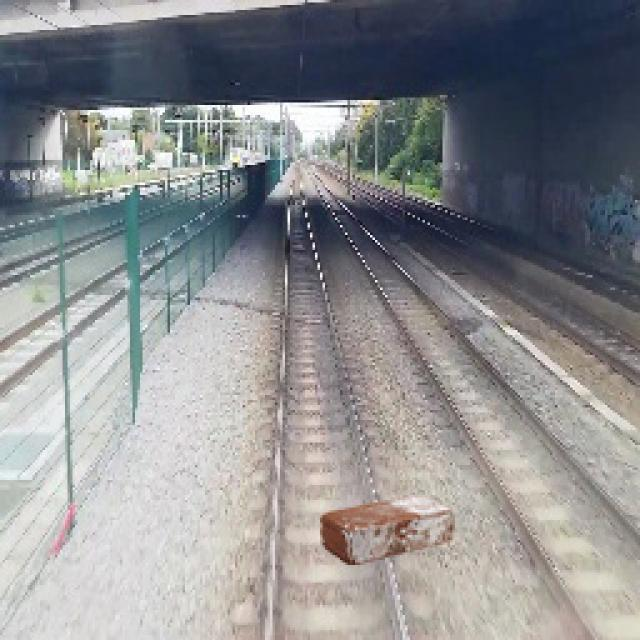rail: (233, 161, 431, 640)
